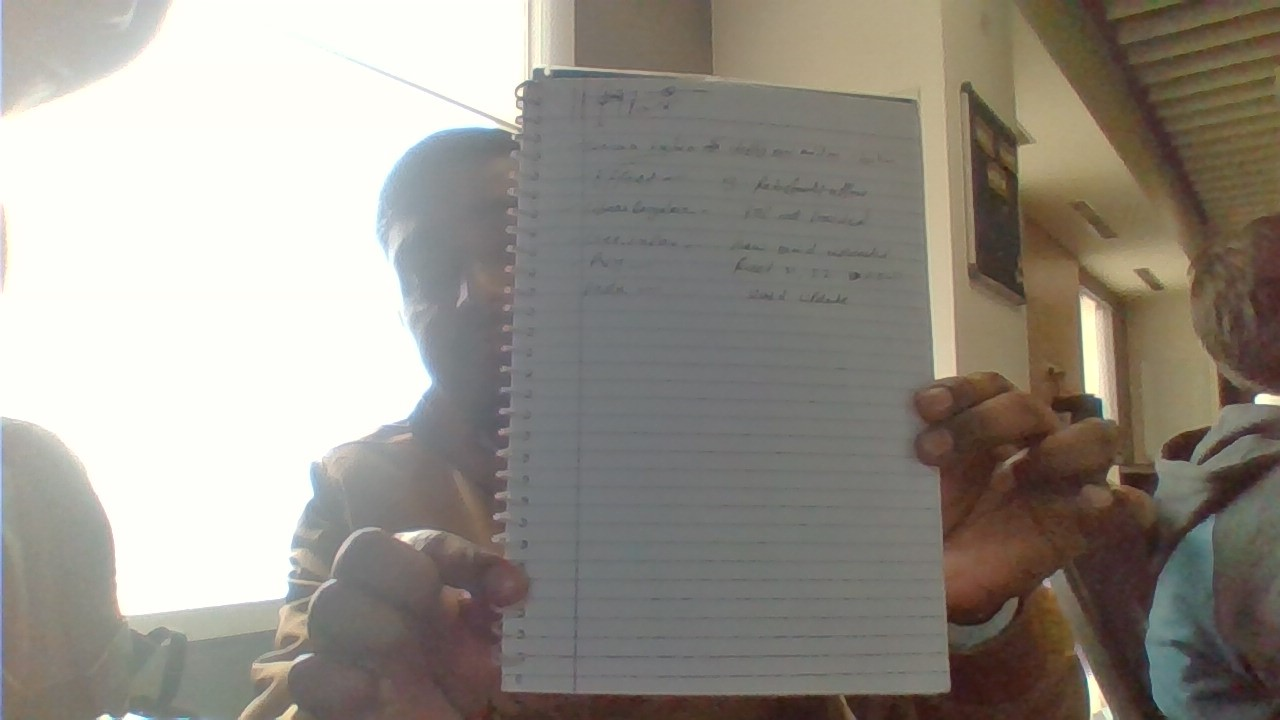notebook: (486, 66, 958, 702)
